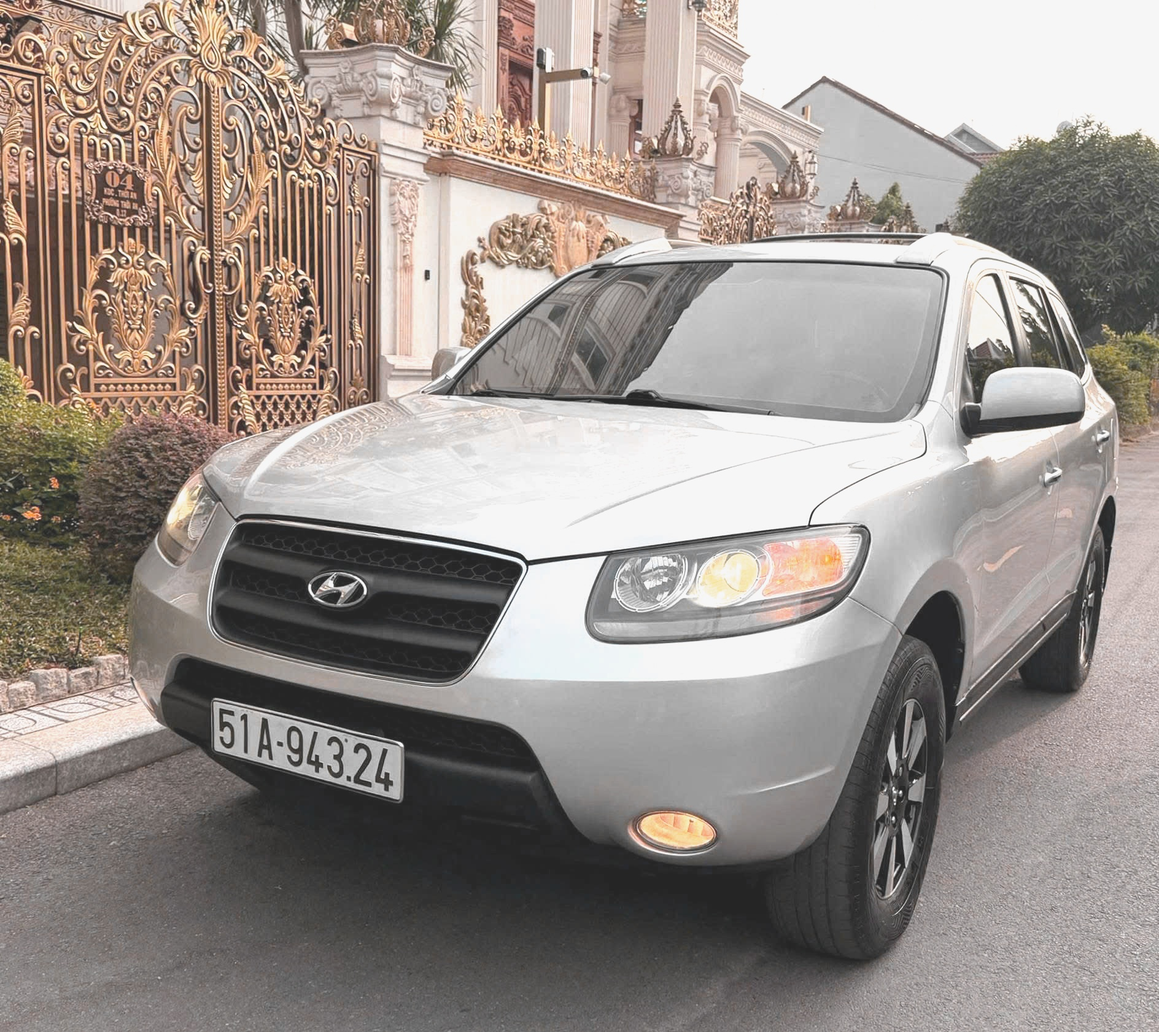Bien-so: (230, 735, 427, 844)
